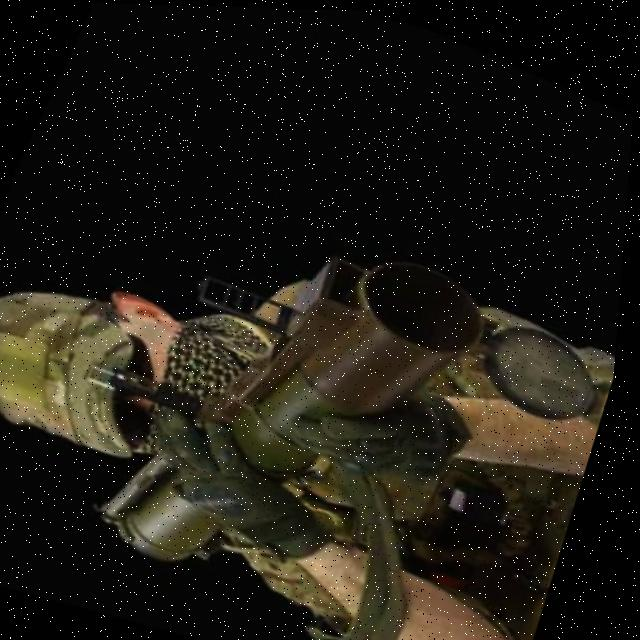rocket: (81, 179, 523, 640)
